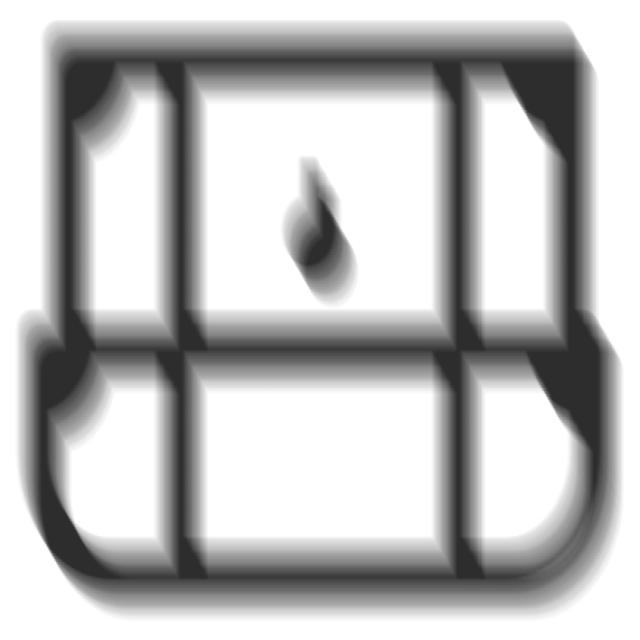treasure_box: (8, 13, 633, 631)
